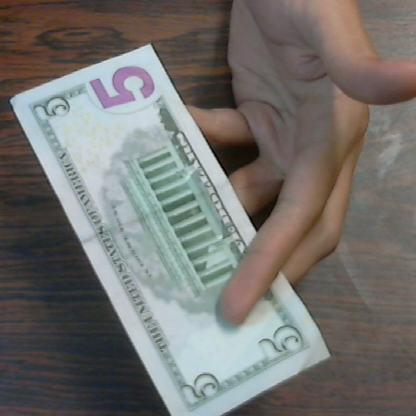five-back: (6, 37, 326, 414)
